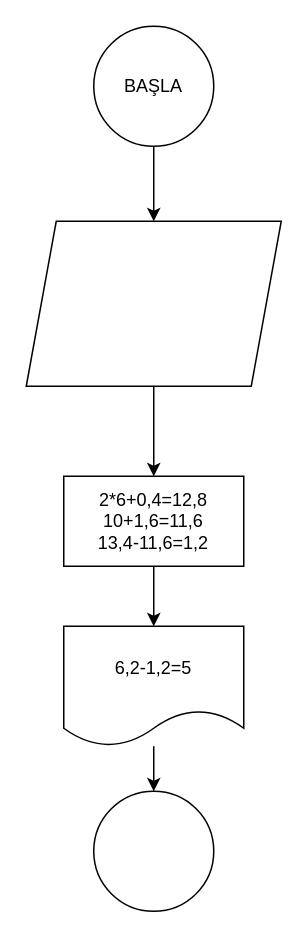
Some shapes in this 308 by 938 pixel diagram are drawn without their labels. Each missing label, with the centre of its shape:
"2 * 6cmlik cetvel(0.4cm) 1 * 10 cmlik cetvel(+1.6cm)" belongs at (x=153, y=303).
"DUR" belongs at (x=153, y=850).
